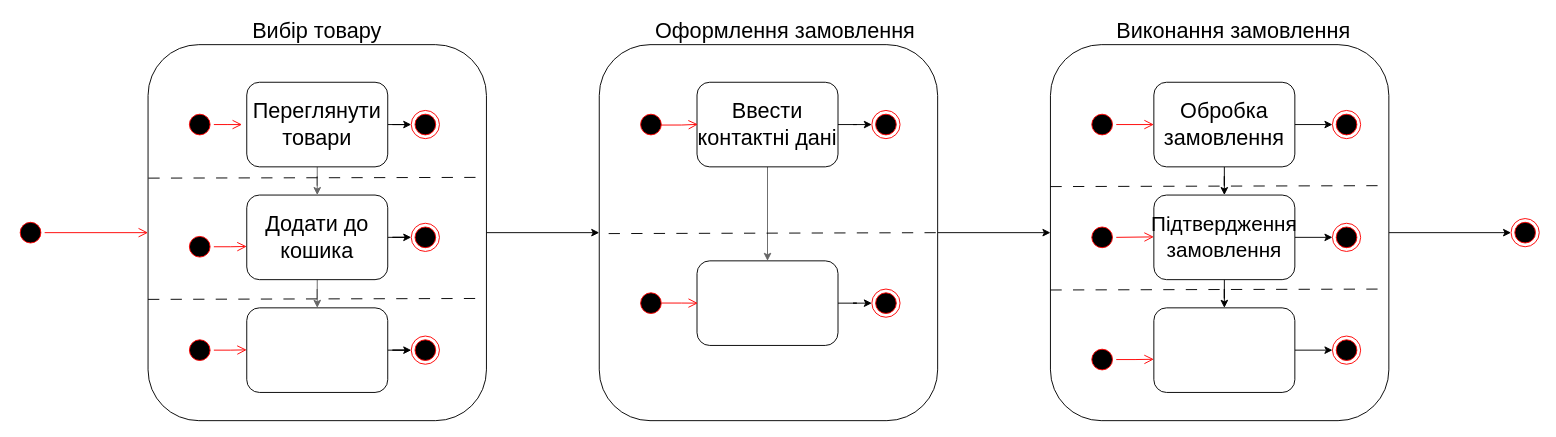
Some shapes in this 1556 by 437 pixel diagram are drawn without their labels. Each missing label, with the centre of its shape:
Ввести адресу: the point at 767,302
Видалити з кошика: the point at 317,349
Передача в службу доставки: the point at 1224,349
